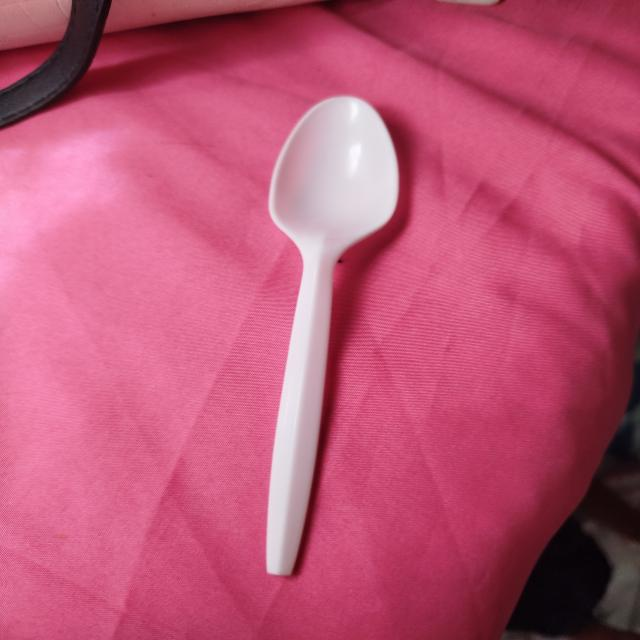plastic: (226, 63, 414, 587)
